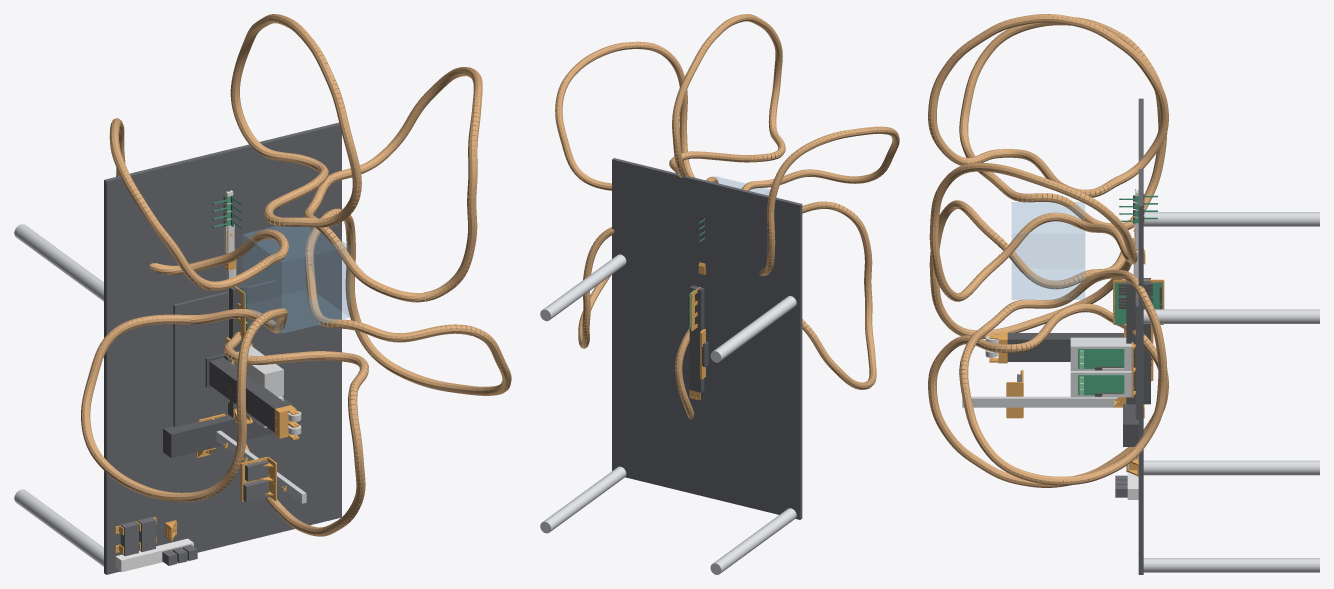
File: rig_v2.glb
3 renders of one model, left to right at view 1: azimuth 30°, elevation 25°; view 2: azimuth 150°, elevation 25°; view 3: azimuth 270°, elevation 25°, orthographic. The views are drawn at different scales.
Visible parts, largest first — view 1: fixed|breadboard|bench, fixed|scan_volume|volume, xcar|platform|bench, fixed|coil_C3|coil, fixed|coil_C5|coil, fixed|coil_C1|coil, fixed|coil_C2|coil, fixed|coil_C4|coil, fixed|coil_C6|coil, fixed|x_stage|stage, xcar|z_stage|stage, fixed|leg_-1_1|bench (+7 smaller); view 2: fixed|breadboard|bench, fixed|coil_C5|coil, fixed|coil_C4|coil, fixed|coil_C1|coil, fixed|coil_C3|coil, fixed|leg_1_-1|bench, fixed|leg_1_1|bench, fixed|leg_-1_-1|bench, fixed|leg_-1_1|bench, fixed|coil_C2|coil, zcar|y_stage|stage, fixed|coil_C6|coil; view 3: fixed|scan_volume|volume, fixed|coil_C2|coil, fixed|coil_C5|coil, fixed|coil_C1|coil, fixed|coil_C6|coil, fixed|coil_C4|coil, fixed|coil_C3|coil, fixed|leg_-1_-1|bench, fixed|leg_1_-1|bench, fixed|breadboard|bench, fixed|leg_-1_1|bench, fixed|leg_1_1|bench (+10 smaller).
Part boxes in pixels (left/top/right/bottom): fixed|breadboard|bench: left=104, top=122, right=341, bottom=574; fixed|scan_volume|volume: left=243, top=226, right=349, bottom=333; xcar|platform|bench: left=173, top=280, right=276, bottom=457; fixed|coil_C3|coil: left=81, top=308, right=287, bottom=501; fixed|coil_C5|coil: left=230, top=14, right=361, bottom=227; fixed|coil_C1|coil: left=303, top=67, right=482, bottom=302; fixed|coil_C2|coil: left=304, top=208, right=511, bottom=395; fixed|coil_C4|coil: left=109, top=118, right=288, bottom=290; fixed|coil_C6|coil: left=223, top=332, right=368, bottom=536; fixed|x_stage|stage: left=163, top=399, right=293, bottom=458; xcar|z_stage|stage: left=209, top=357, right=288, bottom=432; fixed|leg_-1_1|bench: left=14, top=224, right=103, bottom=301; fixed|breadboard|bench: left=612, top=158, right=802, bottom=519; fixed|coil_C5|coil: left=669, top=14, right=785, bottom=177; fixed|coil_C4|coil: left=741, top=126, right=899, bottom=275; fixed|coil_C1|coil: left=555, top=41, right=718, bottom=190; fixed|coil_C3|coil: left=802, top=201, right=876, bottom=389; fixed|leg_1_-1|bench: left=540, top=466, right=626, bottom=533; fixed|leg_1_1|bench: left=540, top=254, right=626, bottom=321; fixed|leg_-1_-1|bench: left=710, top=508, right=796, bottom=574; fixed|leg_-1_1|bench: left=710, top=296, right=796, bottom=362; fixed|coil_C2|coil: left=578, top=227, right=614, bottom=348; zcar|y_stage|stage: left=689, top=285, right=704, bottom=392; fixed|coil_C6|coil: left=675, top=329, right=694, bottom=419; fixed|scan_volume|volume: left=1012, top=202, right=1084, bottom=299; fixed|coil_C2|coil: left=959, top=269, right=1167, bottom=485; fixed|coil_C5|coil: left=928, top=14, right=1168, bottom=197; fixed|coil_C1|coil: left=929, top=163, right=1137, bottom=301; fixed|coil_C6|coil: left=928, top=303, right=1168, bottom=487; fixed|coil_C4|coil: left=959, top=17, right=1167, bottom=229; fixed|coil_C3|coil: left=929, top=200, right=1134, bottom=338; fixed|leg_-1_-1|bench: left=1143, top=460, right=1319, bottom=475; fixed|leg_1_-1|bench: left=1143, top=558, right=1319, bottom=572; fixed|breadboard|bench: left=1138, top=98, right=1143, bottom=574; fixed|leg_-1_1|bench: left=1143, top=212, right=1319, bottom=226; fixed|leg_1_1|bench: left=1143, top=309, right=1319, bottom=323.
Size of the model in its own units: 1649 by 2342 by 1600.
